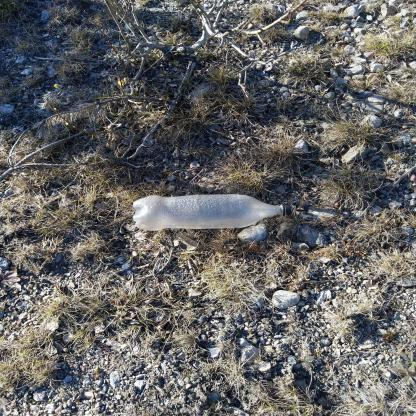plastik: (134, 195, 294, 233)
